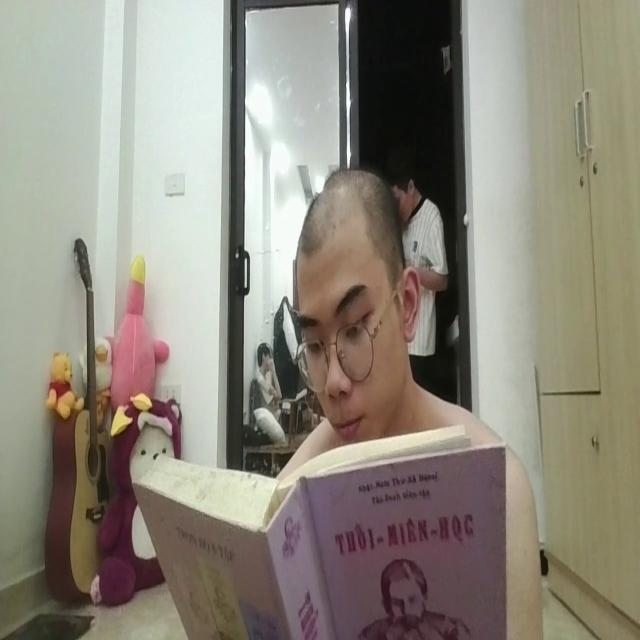book: (135, 444, 507, 640)
extra_person: (396, 158, 445, 359), (251, 332, 279, 429)
student: (292, 160, 420, 453)
